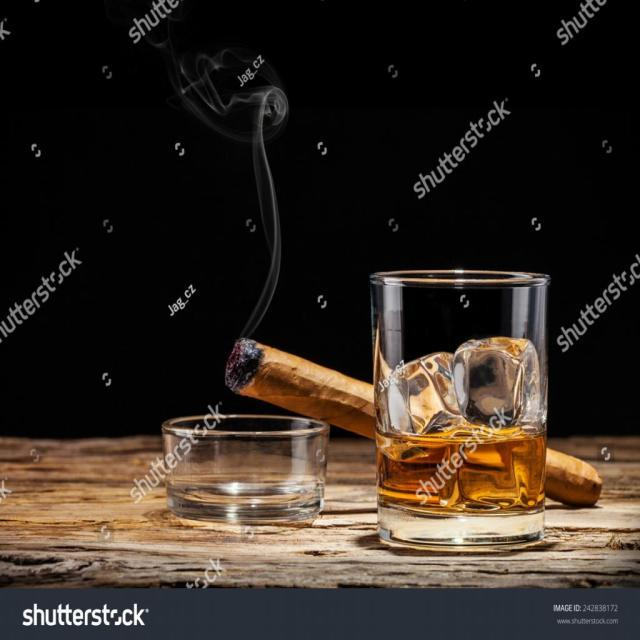smoking: (218, 335, 392, 441), (534, 449, 610, 515)
